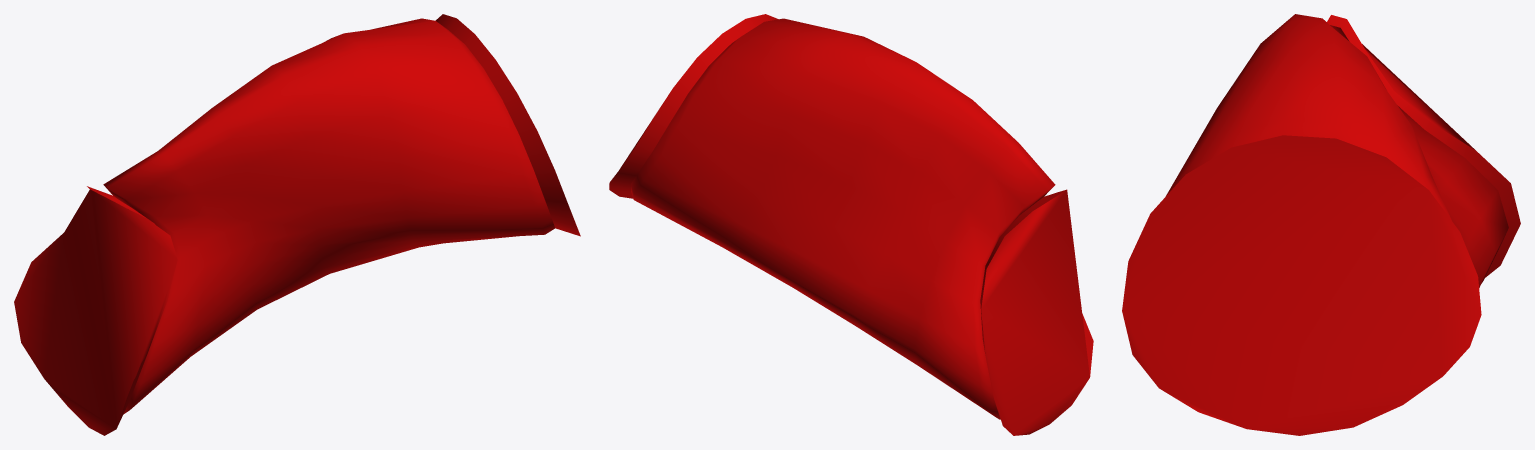
The model's file is CrushedCan.fbx.
3 renders of one model, left to right at view 1: azimuth 30°, elevation 25°; view 2: azimuth 150°, elevation 25°; view 3: azimuth 270°, elevation 25°, orthographic. The views are drawn at different scales.
Visible parts, largest first — view 1: Cylinder005; view 2: Cylinder005; view 3: Cylinder005.
Part boxes in pixels (<box>): Cylinder005: <box>14,14,580,435</box>; Cylinder005: <box>609,14,1093,435</box>; Cylinder005: <box>1122,14,1520,435</box>.
Size of the model in its own units: 59.09 by 42.43 by 36.65.
